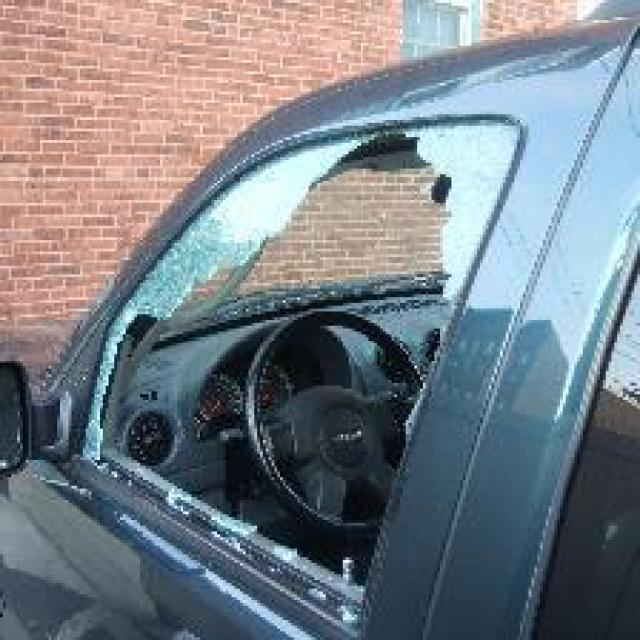damaged: (94, 128, 512, 612)
